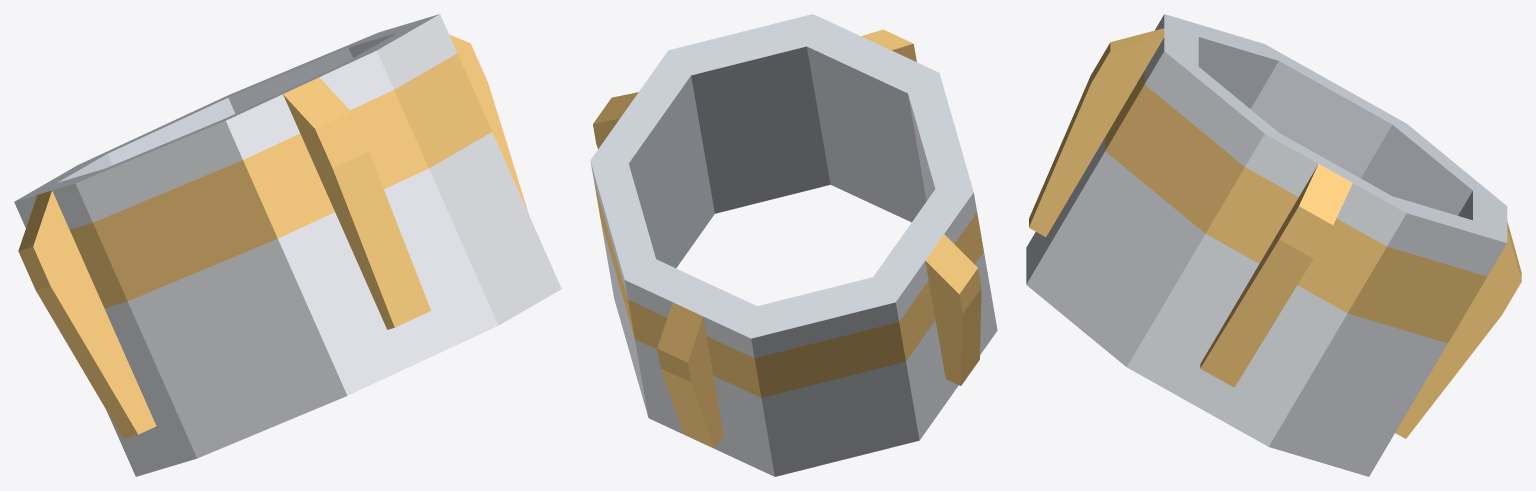
Rendered from debris1.glb.
3 renders of one model, left to right at view 1: azimuth 30°, elevation 25°; view 2: azimuth 150°, elevation 25°; view 3: azimuth 270°, elevation 25°, orthographic. The views are drawn at different scales.
Visible parts, largest first — view 1: rocket_finsB; view 2: rocket_finsB; view 3: rocket_finsB.
Boxes of the visible parts, box(x1,y1,x2,y2) form: rocket_finsB: box(14, 14, 561, 476); rocket_finsB: box(590, 14, 997, 476); rocket_finsB: box(1026, 14, 1521, 476).
Bounding box in the file's own units: 1.22 × 1.17 × 1.25.
